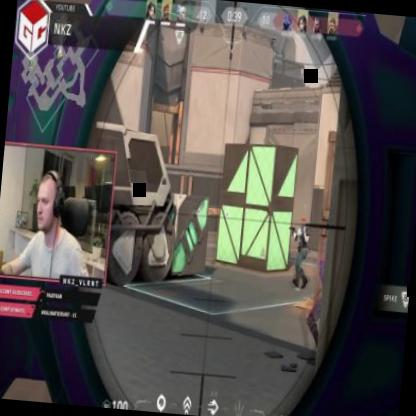enemy: (306, 249, 334, 357)
enemy_head: (324, 250, 334, 268)
